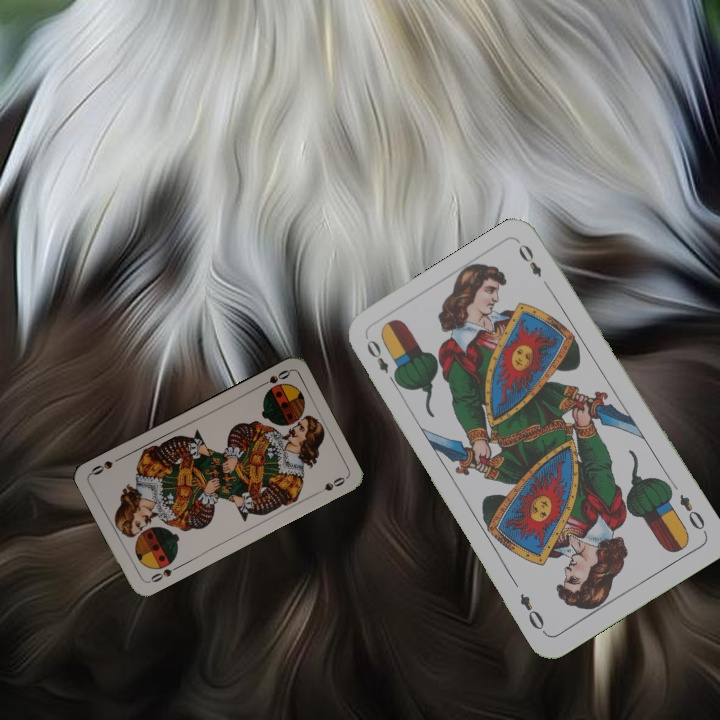EO: (362, 335, 401, 388), (675, 490, 710, 537)
SO: (255, 366, 293, 390), (143, 562, 181, 586)
